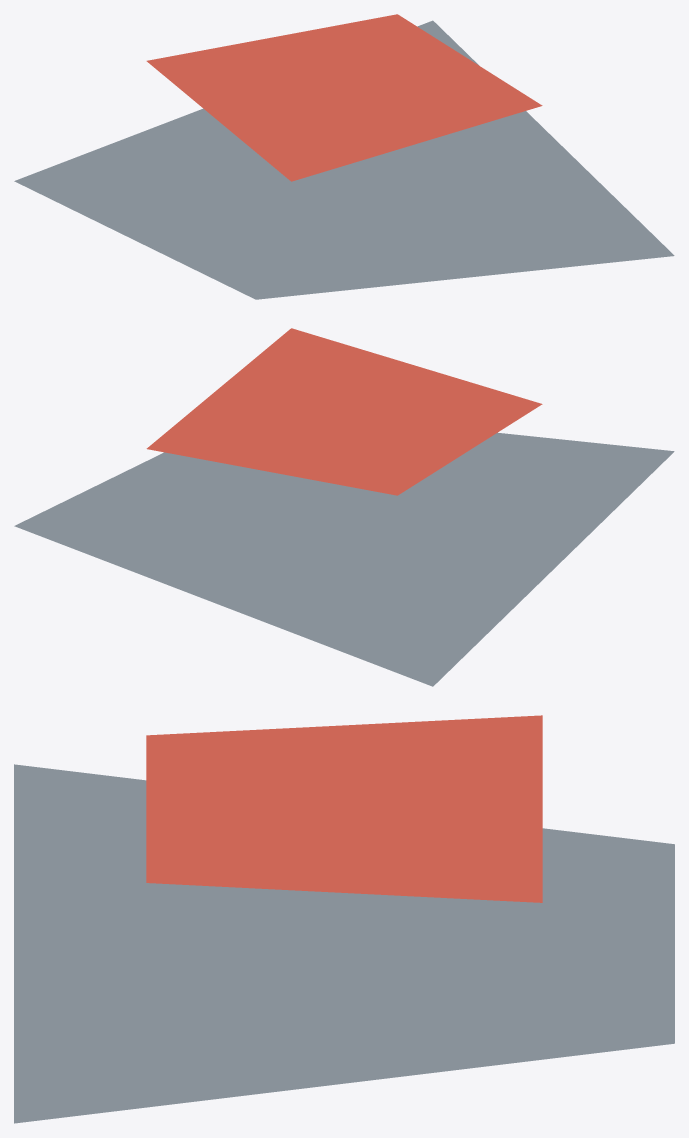
Rendered from SU_NavalYard_LOD2.glb.
The picture shows the model from 3 angles, top to bottom: view 1: azimuth 30°, elevation 25°; view 2: azimuth 150°, elevation 25°; view 3: azimuth 270°, elevation 25°; orthographic projection. The views are drawn at different scales.
Visible parts, largest first — view 1: EntranceGate; view 2: EntranceGate; view 3: EntranceGate.
Boxes of the visible parts, left/top/right/bottom form: EntranceGate: left=14, top=14, right=674, bottom=299; EntranceGate: left=14, top=328, right=674, bottom=686; EntranceGate: left=14, top=715, right=674, bottom=1123.
Size of the model in its own units: 1000 by 308 by 1000.
